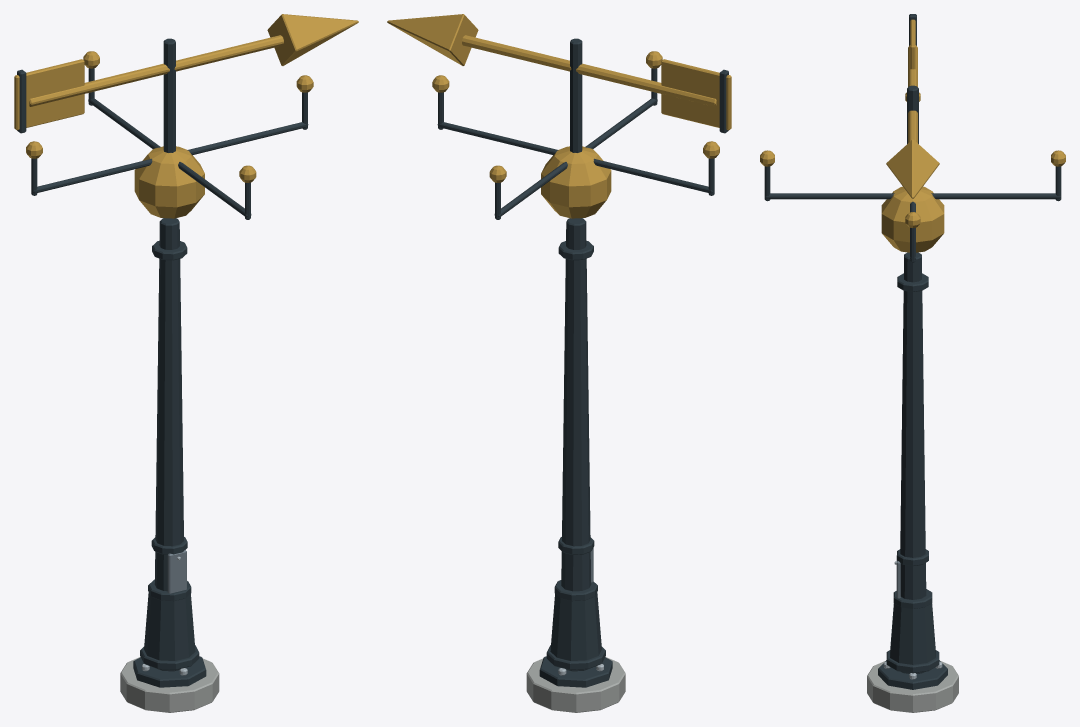
Rendered from b18_directional_weather_vane_column.glb.
The picture shows the model from 3 angles, left to right: view 1: azimuth 30°, elevation 25°; view 2: azimuth 150°, elevation 25°; view 3: azimuth 270°, elevation 25°; orthographic projection. The views are drawn at different scales.
Parts seen in each view (by area): view 1: b18_directional_weather_vane_column; view 2: b18_directional_weather_vane_column; view 3: b18_directional_weather_vane_column.
Boxes of the visible parts, x1,y1,x2,y2 form: b18_directional_weather_vane_column: (14, 14, 358, 712); b18_directional_weather_vane_column: (387, 14, 731, 712); b18_directional_weather_vane_column: (760, 14, 1065, 712).
Size of the model in its own units: 1.6 by 2.92 by 1.33.
